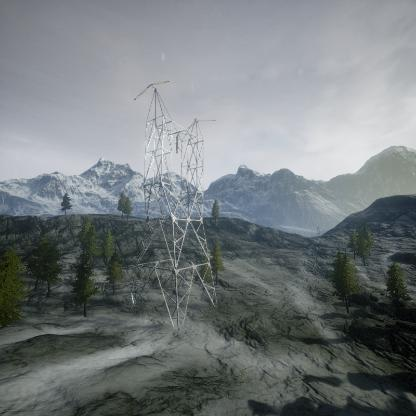tower: (132, 78, 218, 340)
